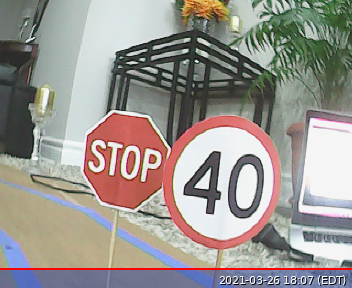Speed Limit 40: (162, 114, 282, 250)
Stop Sign: (81, 109, 163, 212)
